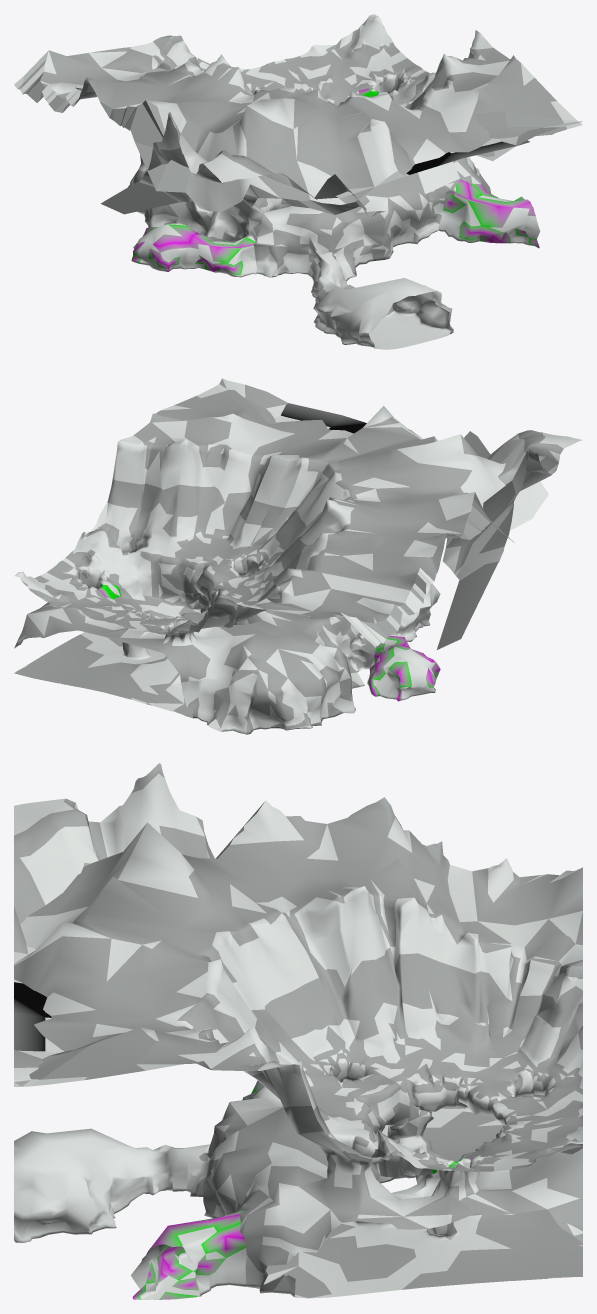
3 renders of one model, top to bottom at view 1: azimuth 30°, elevation 25°; view 2: azimuth 150°, elevation 25°; view 3: azimuth 270°, elevation 25°, orthographic. The views are drawn at different scales.
Parts seen in each view (by area): view 1: G:\FFXIV-MapTools\exports\f1f1\bg\ffxiv\fst_f1\fld\f1f1\bgpl (×17); view 2: G:\FFXIV-MapTools\exports\f1f1\bg\ffxiv\fst_f1\fld\f1f1\bgpl (×20); view 3: G:\FFXIV-MapTools\exports\f1f1\bg\ffxiv\fst_f1\fld\f1f1\bgpl (×18).
Boxes of the visible parts, x1,y1,x2,y2 form: G:\FFXIV-MapTools\exports\f1f1\bg\ffxiv\fst_f1\fld\f1f1\bgpl (×17): [14, 14, 582, 349]; G:\FFXIV-MapTools\exports\f1f1\bg\ffxiv\fst_f1\fld\f1f1\bgpl (×20): [14, 378, 582, 734]; G:\FFXIV-MapTools\exports\f1f1\bg\ffxiv\fst_f1\fld\f1f1\bgpl (×18): [14, 763, 582, 1299].
Bounding box in the file's own units: 128 × 81.73 × 128.
